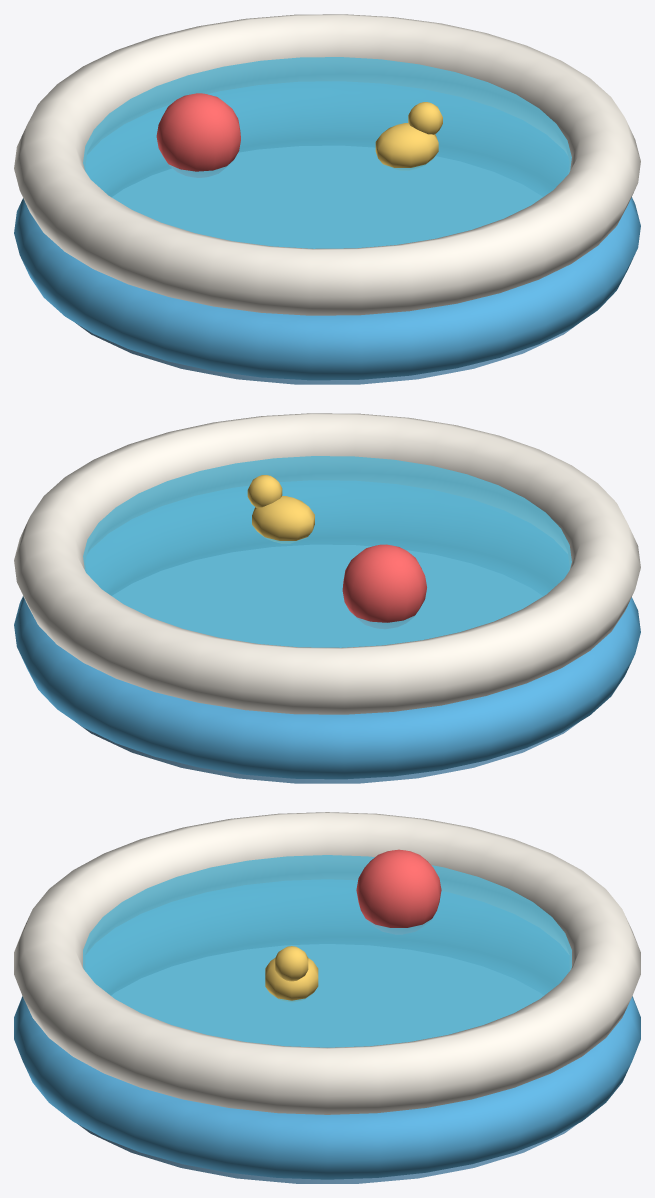
Rendered from ksandpit-paddling.glb.
The picture shows the model from 3 angles, top to bottom: view 1: azimuth 30°, elevation 25°; view 2: azimuth 150°, elevation 25°; view 3: azimuth 270°, elevation 25°; orthographic projection.
Size of the model in its own units: 1.76 by 0.5 by 1.75.
